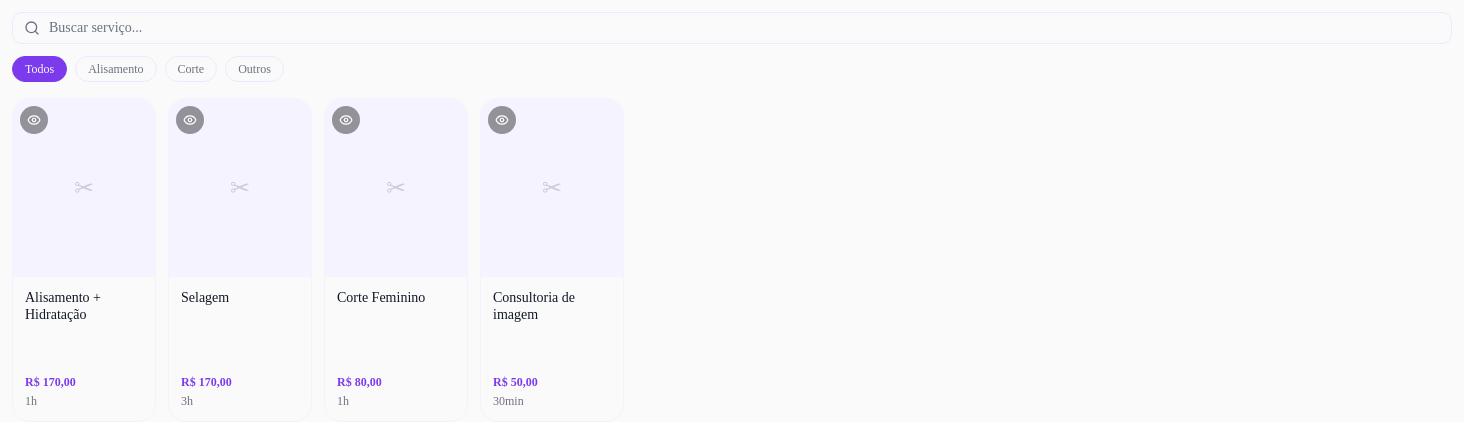
Test case: ServicePickerWithCategories › mostra apenas os serviços da categoria selecionada ao clicar num chip
Step 1. Click the button "Corte" → point(191, 69), box [164,56,217,82]
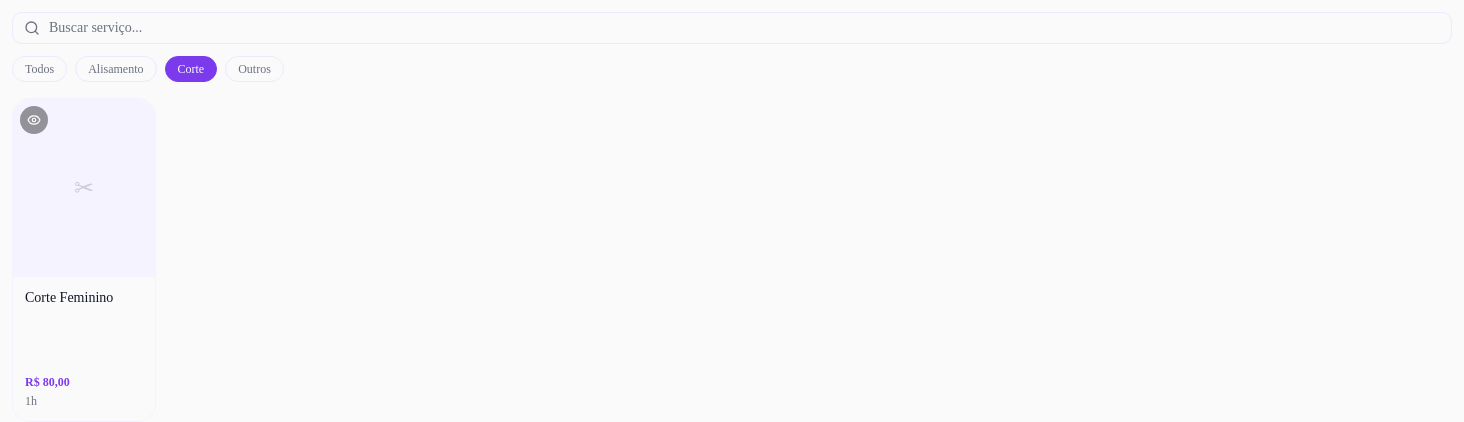
Expected: the button "Alisamento + Hidratação" is gone
Expected: the button "Selagem" is gone
Expected: the button "Consultoria de imagem" is gone
